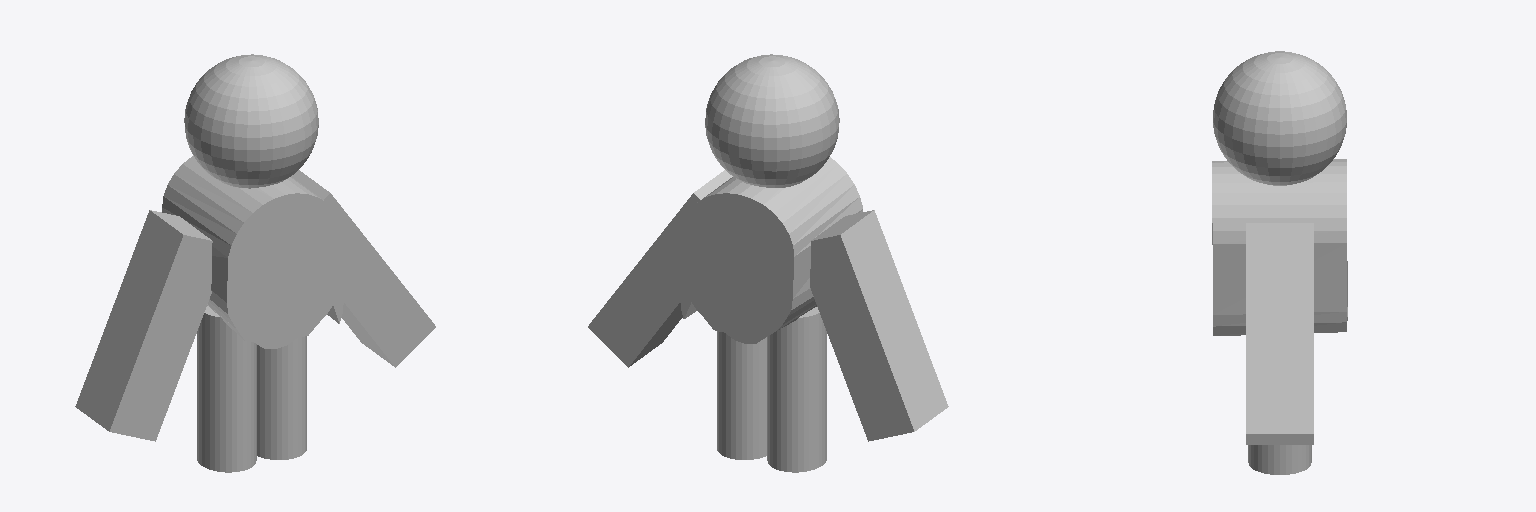
The model's file is Figurine17.obj.
3 renders of one model, left to right at view 1: azimuth 30°, elevation 25°; view 2: azimuth 150°, elevation 25°; view 3: azimuth 270°, elevation 25°, orthographic.
Parts seen in each view (by area): view 1: Cylinder; view 2: Cylinder; view 3: Cylinder.
Boxes of the visible parts, x1=… form: Cylinder: x1=75, y1=54, x2=435, y2=472; Cylinder: x1=588, y1=54, x2=948, y2=472; Cylinder: x1=1212, y1=51, x2=1347, y2=474.
Bounding box in the file's own units: 5.6 × 6.42 × 2.